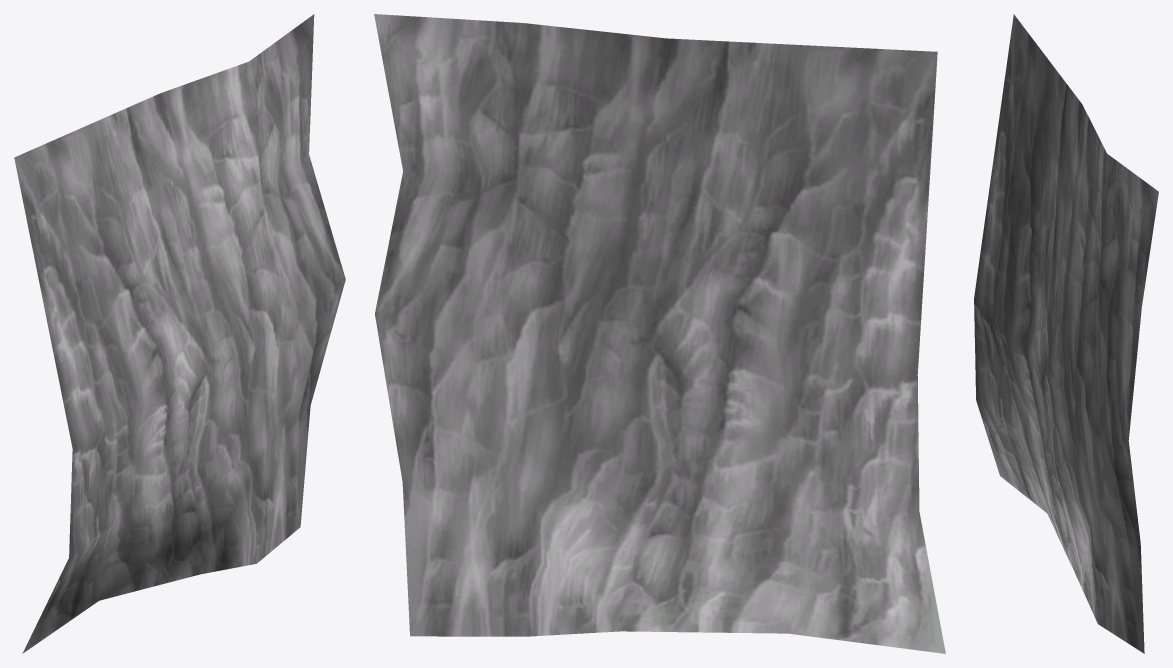
The model's file is SWORDLIGHT20_PS-AREA03_75.fbx.
3 views of the same model, side by side, from view 1: azimuth 30°, elevation 25°; view 2: azimuth 150°, elevation 25°; view 3: azimuth 270°, elevation 25° (orthographic). The views are drawn at different scales.
Parts seen in each view (by area): view 1: SWORDLIGHT20_PS-AREA03_75; view 2: SWORDLIGHT20_PS-AREA03_75; view 3: SWORDLIGHT20_PS-AREA03_75.
Part boxes in pixels (x1,y1,x2,y2): SWORDLIGHT20_PS-AREA03_75: (14, 14, 345, 653); SWORDLIGHT20_PS-AREA03_75: (374, 14, 945, 653); SWORDLIGHT20_PS-AREA03_75: (974, 14, 1158, 653).
Size of the model in its own units: 81837 by 101355 by 35513.
Materials: 1 (1 with a texture image).
